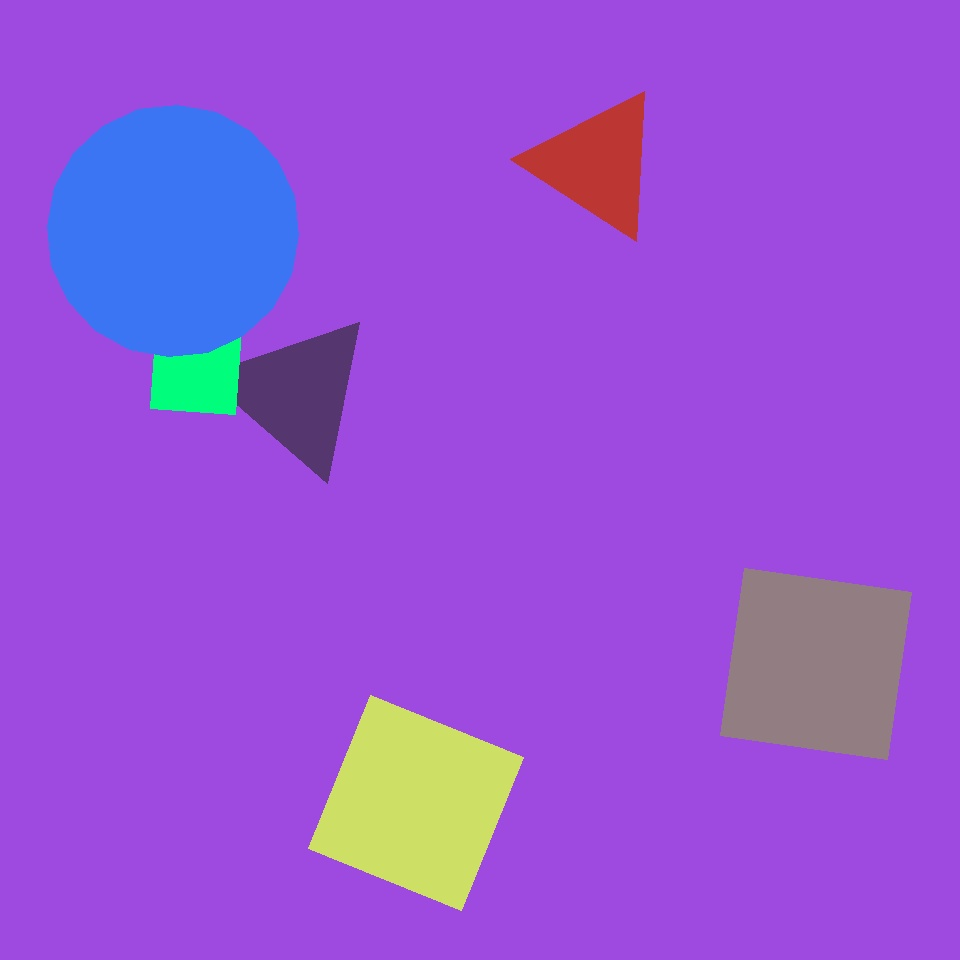circle: (343, 258, 587, 529), (219, 314, 375, 474), (530, 89, 664, 239)
square: (299, 439, 623, 763), (308, 696, 524, 910), (720, 568, 912, 760), (150, 324, 242, 414)
triangle: (47, 106, 298, 356), (475, 120, 608, 252)
